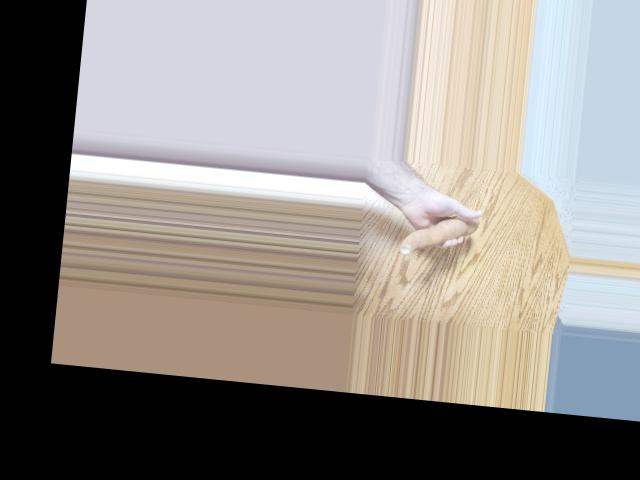sweet_potato: (395, 211, 476, 260)
